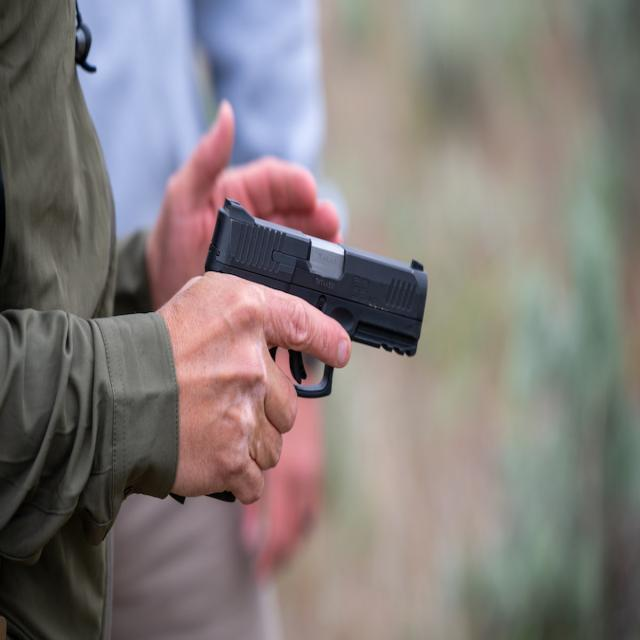pistol: (196, 193, 434, 489)
